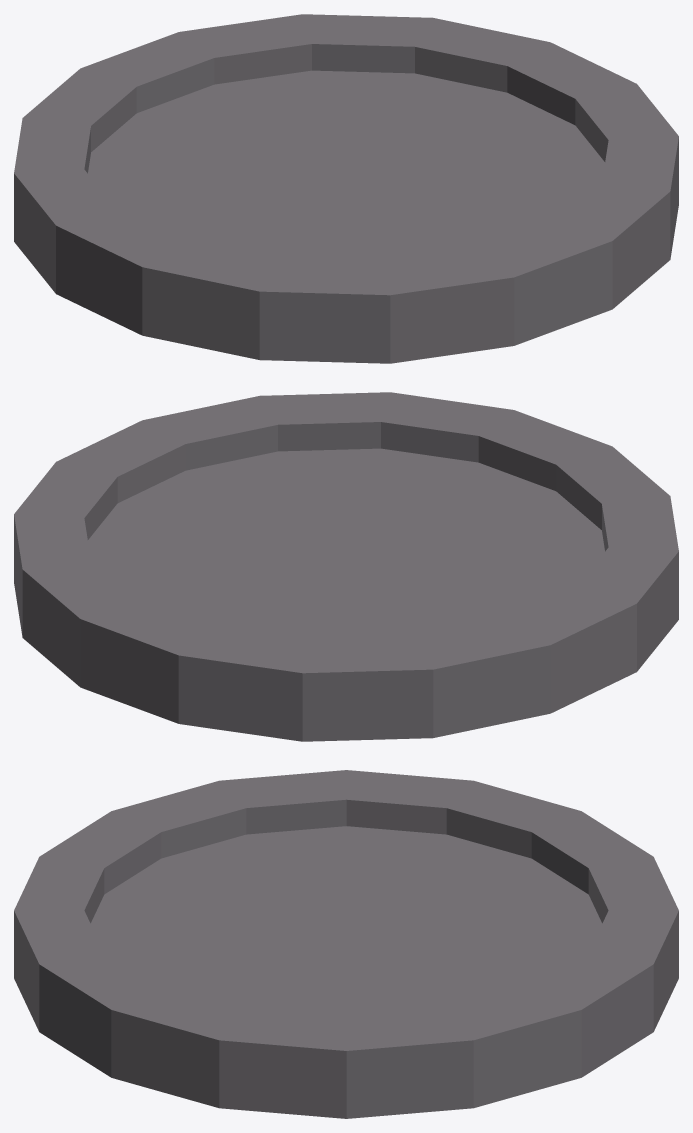
Rendered from coin02.gltf.
The picture shows the model from 3 angles, top to bottom: view 1: azimuth 30°, elevation 25°; view 2: azimuth 150°, elevation 25°; view 3: azimuth 270°, elevation 25°; orthographic projection.
Visible parts, largest first — view 1: Cylinder; view 2: Cylinder; view 3: Cylinder.
Boxes of the visible parts, x1,y1,x2,y2 form: Cylinder: [14, 14, 678, 363]; Cylinder: [14, 392, 678, 741]; Cylinder: [14, 770, 678, 1118].
Size of the model in its own units: 0.04 by 0.00451 by 0.04.
Materials: 1 (1 with a texture image).
